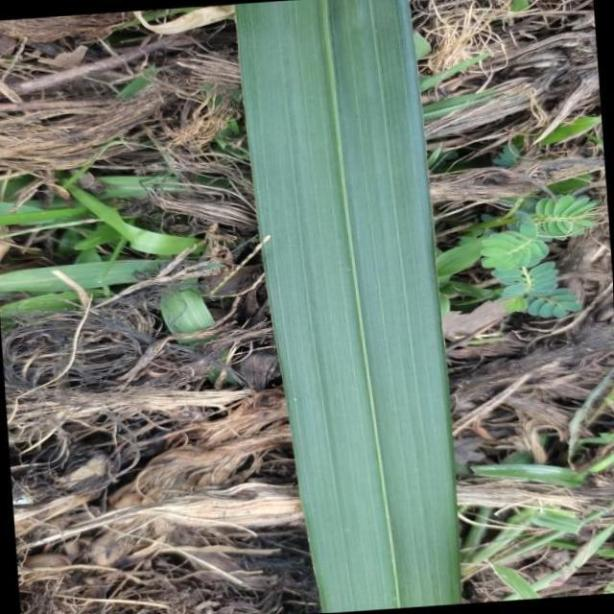Healthy: (231, 5, 474, 612)
